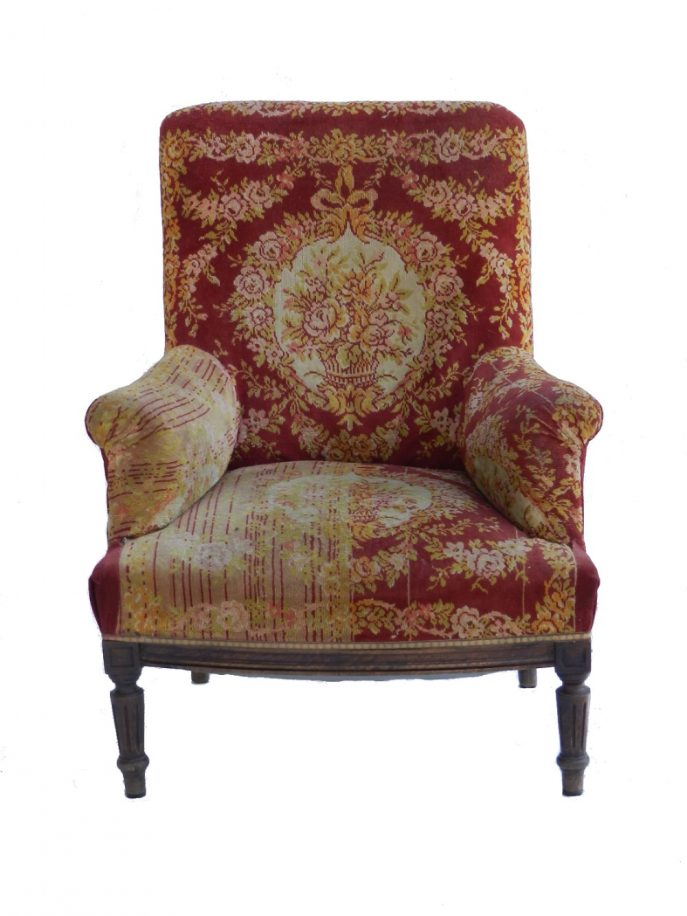chairs: (83, 100, 607, 801)
